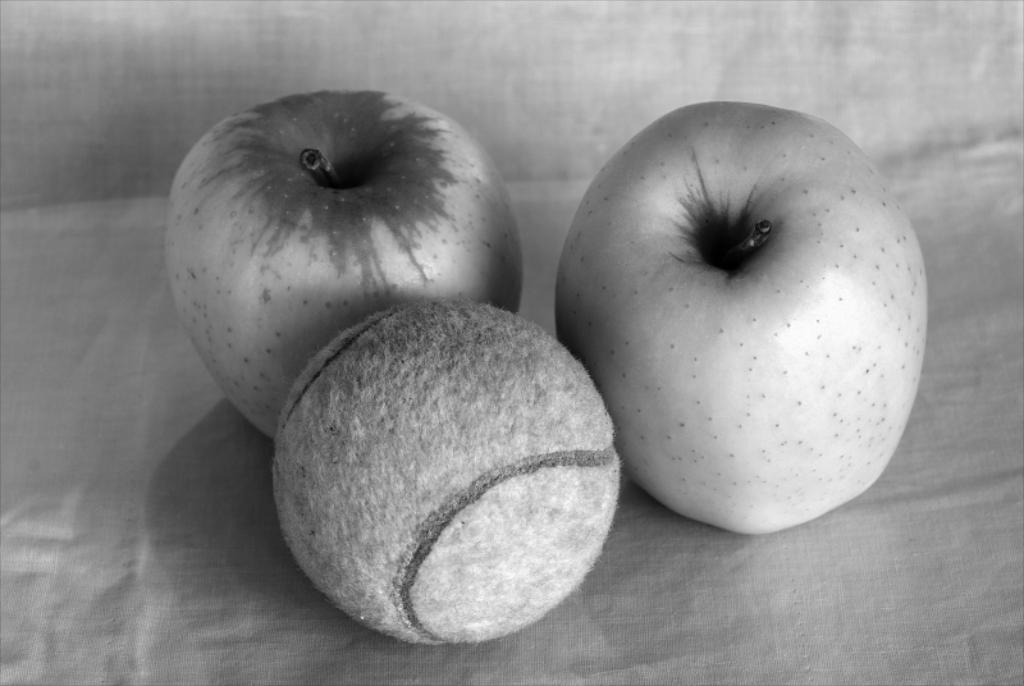Apple: (552, 121, 922, 537), (160, 79, 528, 442)
